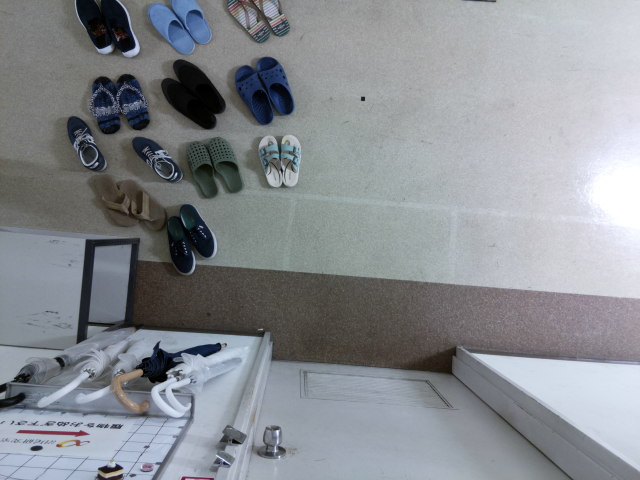Copy of Copy of Copy of Copy of Copy of Copy of Copy of sandal: (252, 1, 290, 36)
Copy of Copy of Copy of Copy of Copy of Copy of Copy of shoes: (74, 1, 115, 53)
Copy of Copy of Copy of Copy of Copy of Copy of sandal: (226, 1, 269, 42)
Copy of Copy of Copy of Copy of Copy of Copy of shoes: (99, 1, 140, 58)
Copy of Copy of Copy of Copy of Copy of sandal: (119, 178, 166, 231)
Copy of Copy of Copy of Copy of Copy of shoes: (167, 216, 195, 275)
Copy of Copy of Copy of Copy of Copy of slipper: (169, 1, 211, 44)
Copy of Copy of Copy of Copy of sandal: (94, 175, 140, 226)
Copy of Copy of Copy of Copy of shoes: (179, 203, 216, 257)
Copy of Copy of Copy of Copy of slipper: (147, 3, 195, 55)
Copy of Copy of Copy of sandal: (89, 76, 120, 134)
Copy of Copy of Copy of shoes: (66, 115, 107, 172)
Copy of Copy of Copy of slipper: (185, 141, 218, 197)
Copy of Copy of sandal: (116, 73, 150, 130)
Copy of Copy of shoes: (131, 136, 182, 182)
Copy of Copy of slipper: (207, 136, 243, 193)
Copy of sandal: (258, 135, 281, 187)
Copy of shoes: (161, 77, 217, 129)
Copy of slipper: (234, 65, 273, 124)
sandal: (280, 134, 300, 187)
shoes: (172, 59, 226, 113)
slipper: (256, 55, 294, 114)
